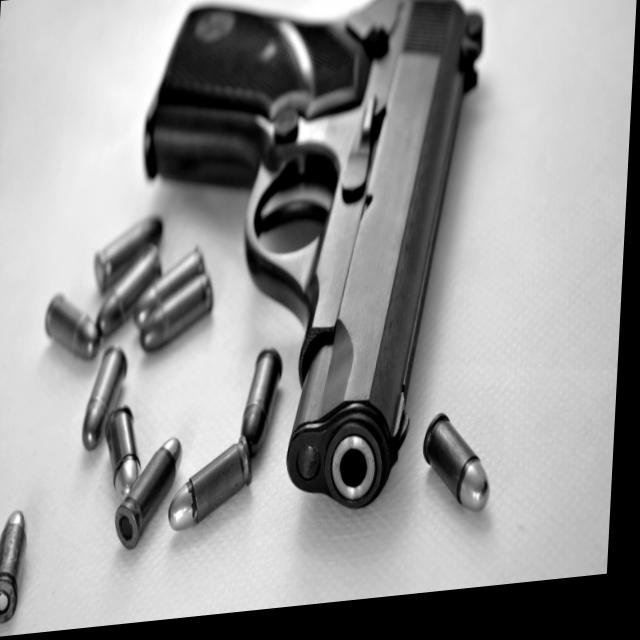handgun: (128, 0, 487, 536)
